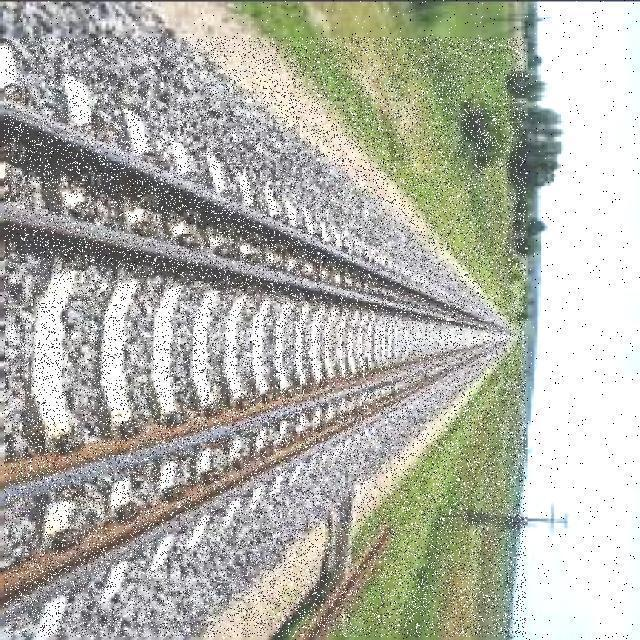rail: (6, 38, 527, 638)
